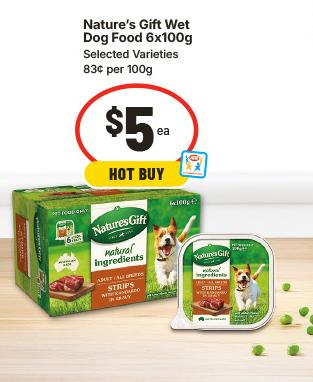description_block: (74, 11, 201, 47)
price_main: (71, 85, 205, 160)
product_image_block: (13, 187, 287, 343)
promo_text_block: (73, 162, 207, 189)
unit_price_block: (79, 61, 167, 77)
